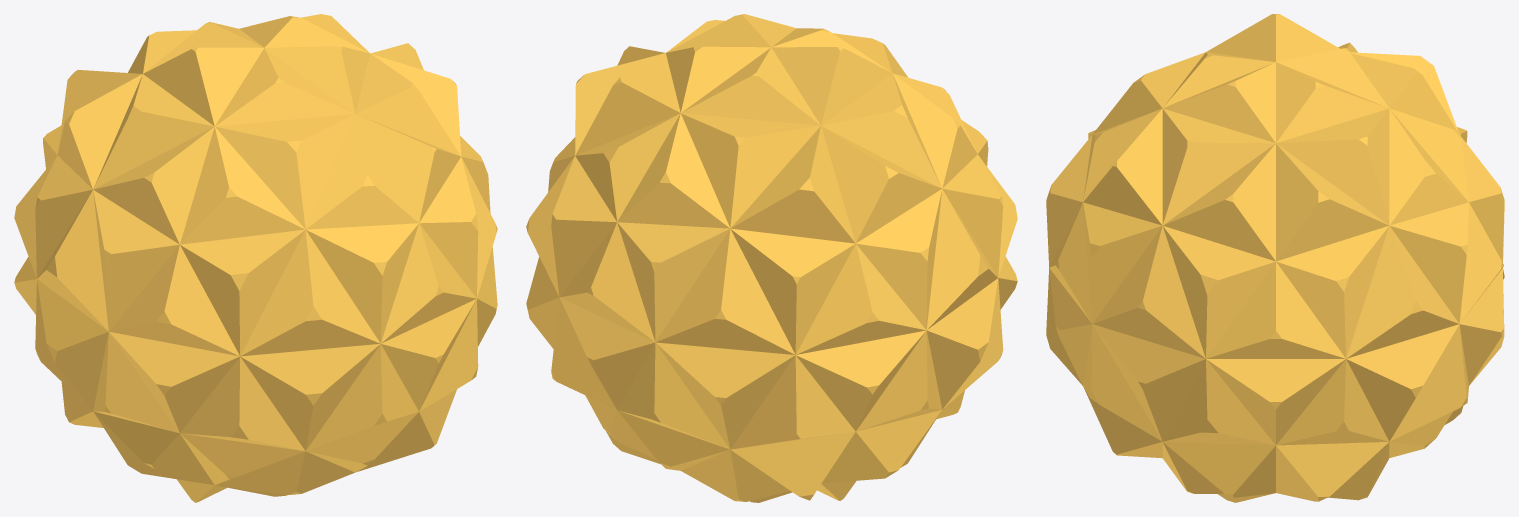
File: OrangeObject1.fbx
3 views of the same model, side by side, from view 1: azimuth 30°, elevation 25°; view 2: azimuth 150°, elevation 25°; view 3: azimuth 270°, elevation 25° (orthographic). The views are drawn at different scales.
Visible parts, largest first — view 1: Icosphere; view 2: Icosphere; view 3: Icosphere.
Part boxes in pixels (x1=…): Icosphere: x1=14, y1=14, x2=497, y2=502; Icosphere: x1=526, y1=14, x2=1017, y2=502; Icosphere: x1=1046, y1=14, x2=1504, y2=502.
Bounding box in the file's own units: 213 × 216 × 202.
